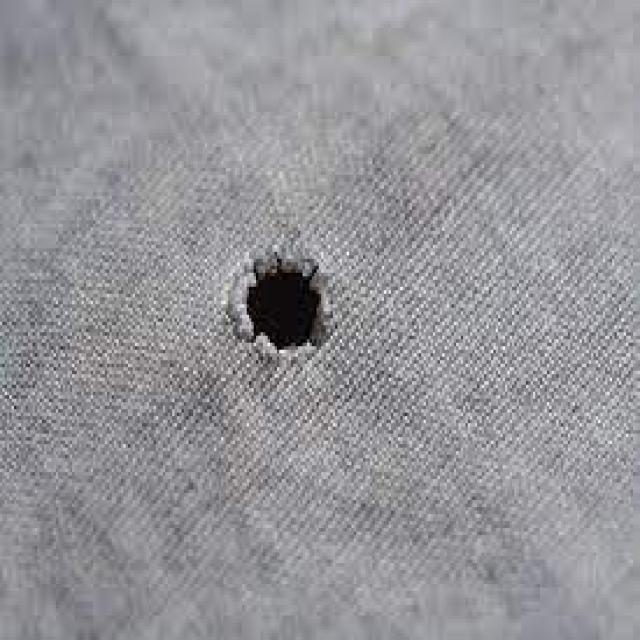Hole: (245, 254, 332, 350)
